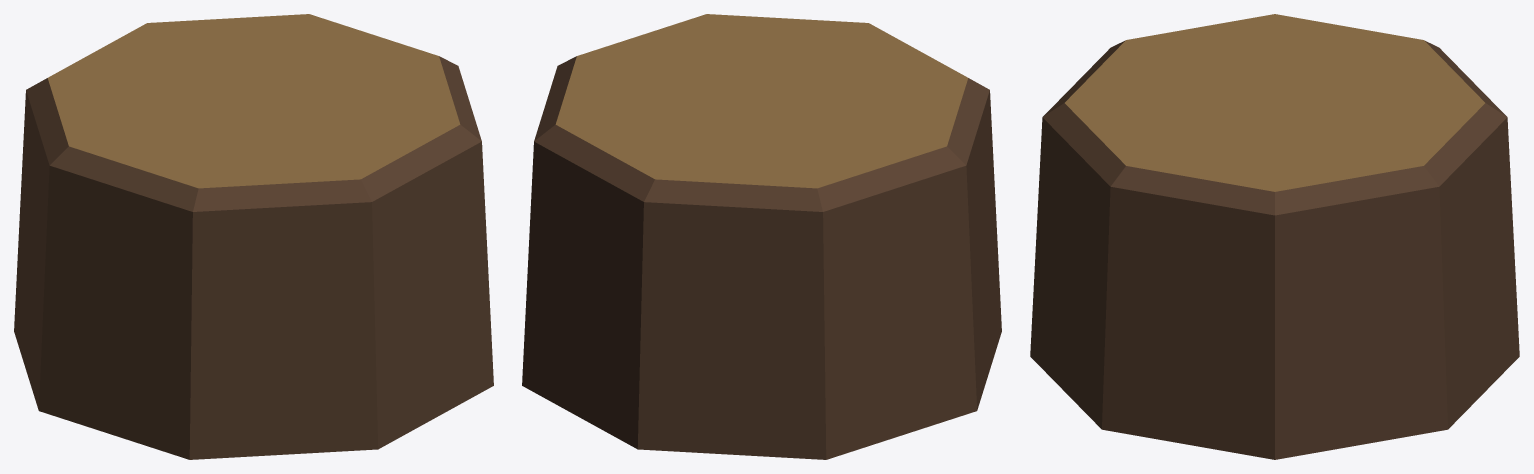
The model's file is OakStump.glb.
The picture shows the model from 3 angles, left to right: view 1: azimuth 30°, elevation 25°; view 2: azimuth 150°, elevation 25°; view 3: azimuth 270°, elevation 25°; orthographic projection.
Visible parts, largest first — view 1: OakStump; view 2: OakStump; view 3: OakStump.
Part boxes in pixels (bbox=[...]): OakStump: bbox=[14, 14, 493, 459]; OakStump: bbox=[522, 14, 1001, 459]; OakStump: bbox=[1030, 14, 1519, 459].
Size of the model in its own units: 0.56 by 0.32 by 0.56.
